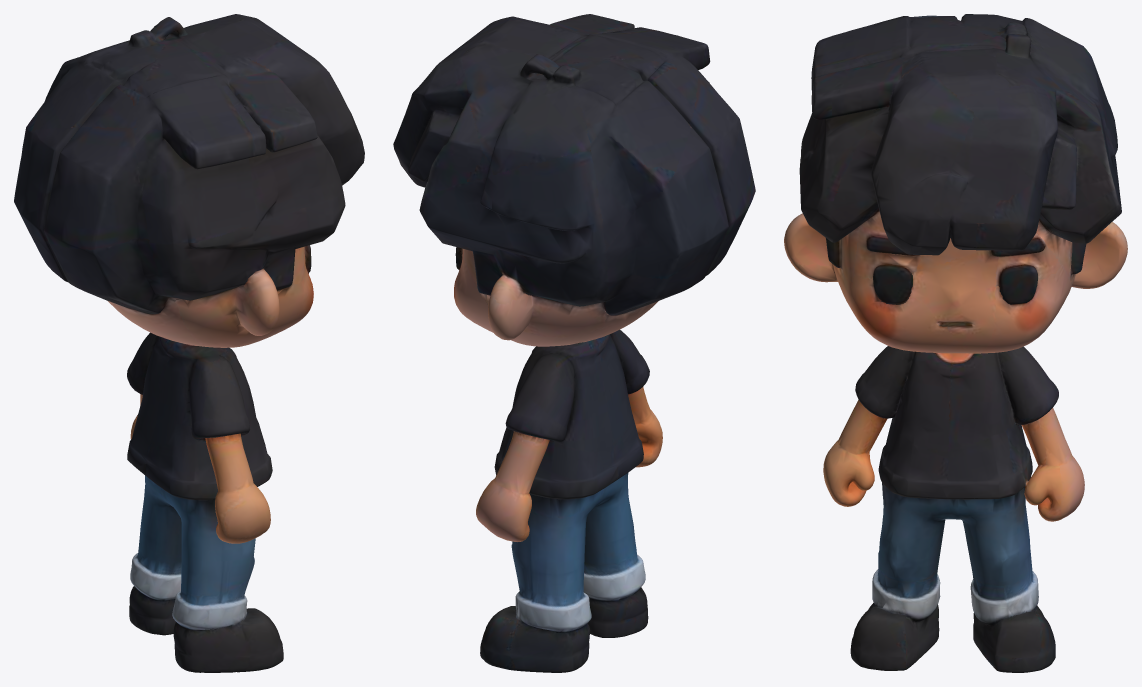
File: hair_m6-web.glb
3 views of the same model, side by side, from view 1: azimuth 30°, elevation 25°; view 2: azimuth 150°, elevation 25°; view 3: azimuth 270°, elevation 25° (orthographic). The views are drawn at different scales.
Visible parts, largest first — view 1: tripo_node_93a134ef-6aec-4ad3-9f3b-4df235310684; view 2: tripo_node_93a134ef-6aec-4ad3-9f3b-4df235310684; view 3: tripo_node_93a134ef-6aec-4ad3-9f3b-4df235310684.
Part boxes in pixels (box(x1,y1,x2,y2)): tripo_node_93a134ef-6aec-4ad3-9f3b-4df235310684: box(14, 14, 364, 672); tripo_node_93a134ef-6aec-4ad3-9f3b-4df235310684: box(393, 14, 755, 672); tripo_node_93a134ef-6aec-4ad3-9f3b-4df235310684: box(784, 14, 1127, 672).
Bounding box in the file's own units: 0.5275 × 0.9997 × 0.507.
Materials: 1 (1 with a texture image).
